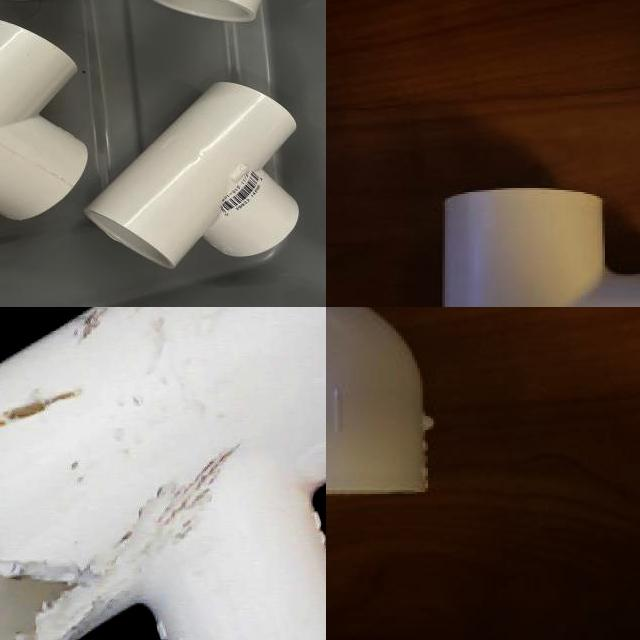Defective: (129, 452, 237, 558), (0, 519, 91, 640), (0, 392, 104, 466), (55, 307, 278, 322)
L Joint: (326, 307, 434, 498)
T Joint: (0, 307, 326, 640), (84, 82, 300, 271), (441, 188, 640, 307), (0, 20, 86, 223)
